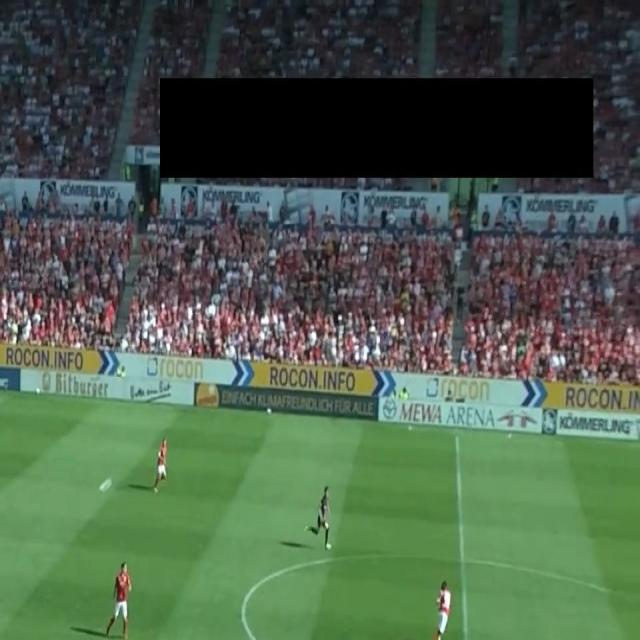ball: (98, 476, 112, 495)
